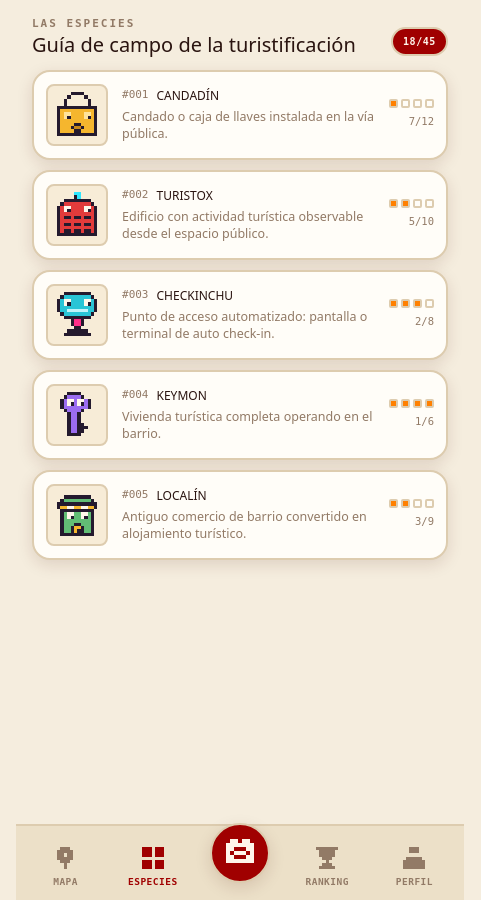
it: species screen (Pokédex) › opens the detail card when tapping a species
The width and height of the screenshot is (481, 900).
Click the button "CANDADÍN": (240, 114) 32,70 -> 448,160
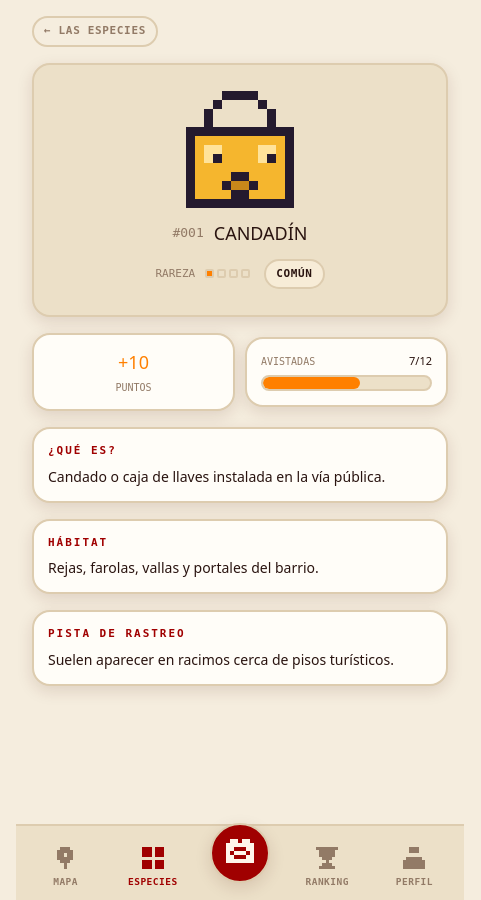
Result: the text "¿Qué es?" is shown at 48,444 -> 117,457
Result: the text "Hábitat" is shown at 48,536 -> 108,548
Result: the text "Pista de rastreo" is shown at 48,627 -> 186,640
